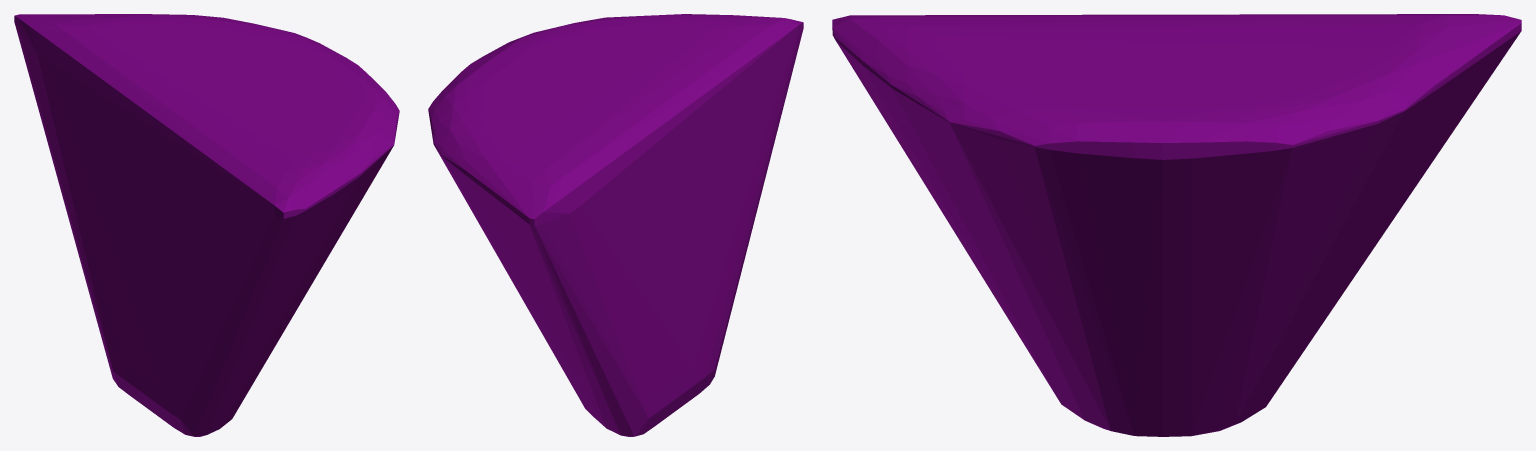
The model's file is left-hip-yaw-0_part_11.obj.
3 views of the same model, side by side, from view 1: azimuth 30°, elevation 25°; view 2: azimuth 150°, elevation 25°; view 3: azimuth 270°, elevation 25° (orthographic). The views are drawn at different scales.
Size of the model in its own units: 0.0154 by 0.0217 by 0.0339.
